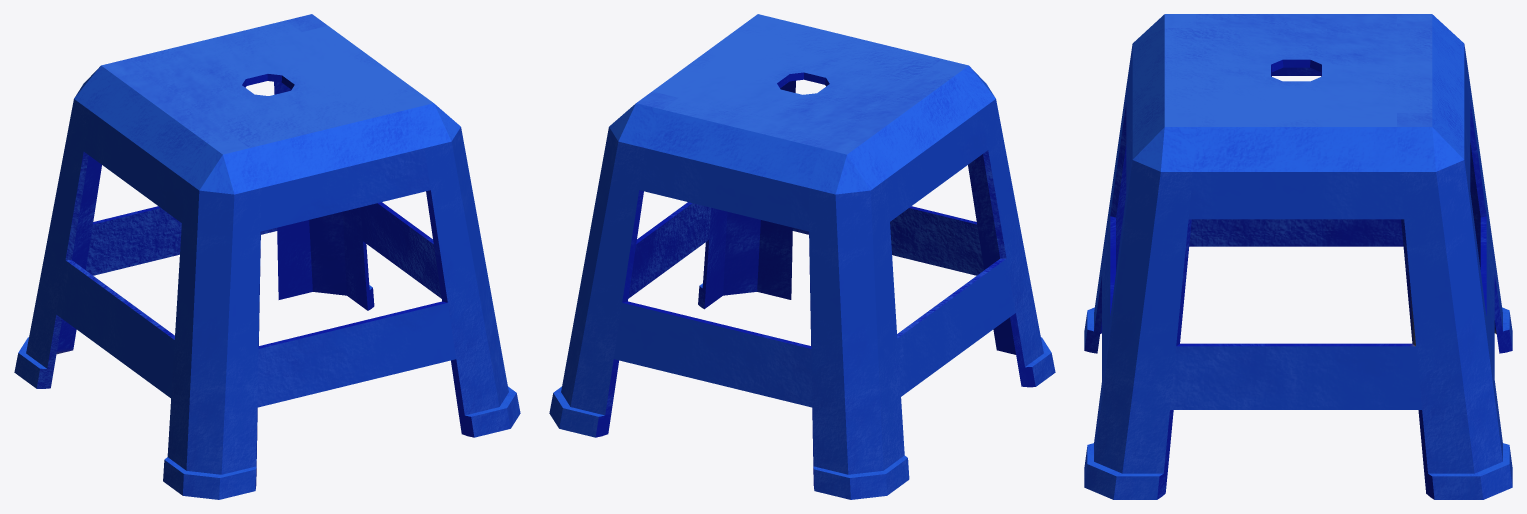
Rendered from 플라스틱 의자.fbx.
The picture shows the model from 3 angles, left to right: view 1: azimuth 30°, elevation 25°; view 2: azimuth 150°, elevation 25°; view 3: azimuth 270°, elevation 25°; orthographic projection. The views are drawn at different scales.
Parts seen in each view (by area): view 1: 플라스틱 의자; view 2: 플라스틱 의자; view 3: 플라스틱 의자.
Part boxes in pixels (<box>): 플라스틱 의자: <box>14,14,520,499</box>; 플라스틱 의자: <box>549,14,1055,499</box>; 플라스틱 의자: <box>1084,14,1512,499</box>.
Bounding box in the file's own units: 552 × 482 × 552.
1 material, 1 textured.
